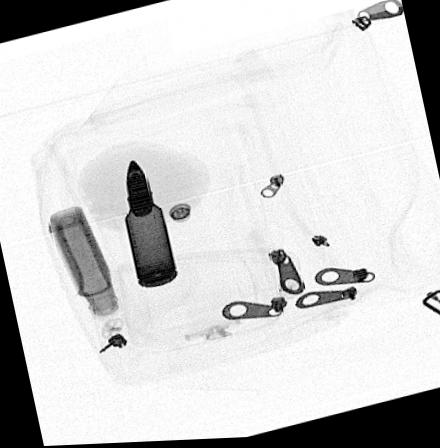Bullet: (122, 155, 177, 287)
